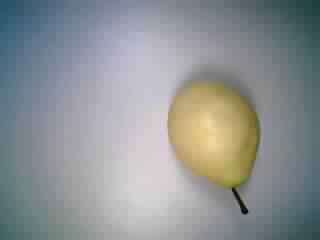pear: (155, 75, 270, 217)
